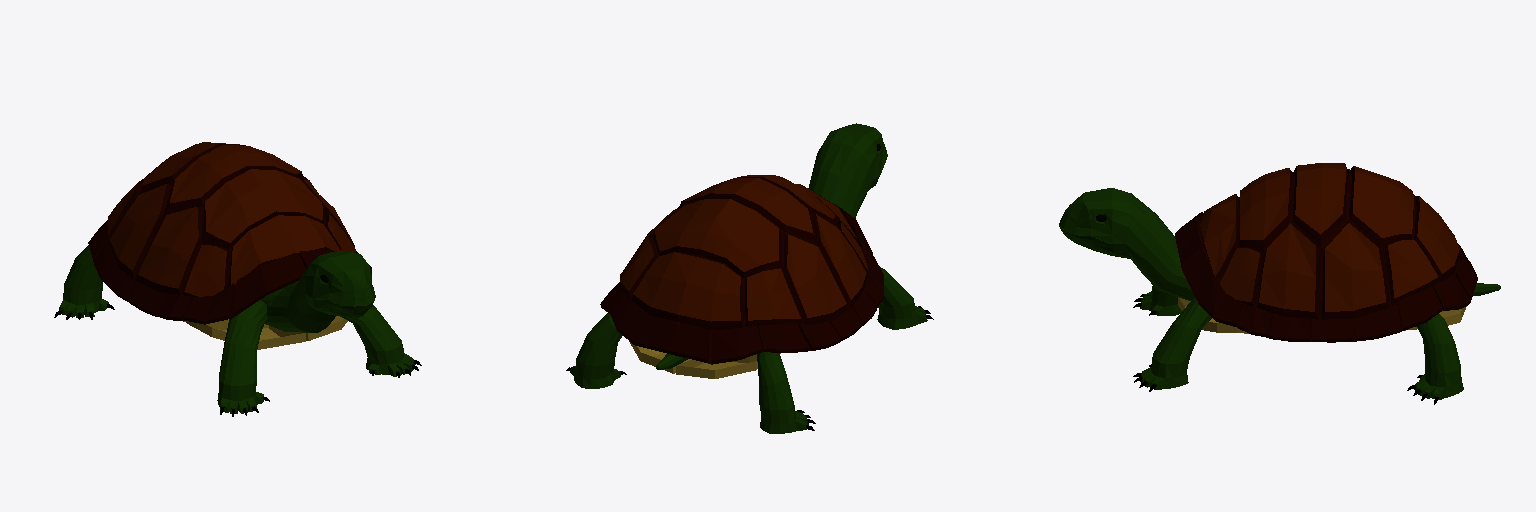
Rendered from turtle.obj.
3 views of the same model, side by side, from view 1: azimuth 30°, elevation 25°; view 2: azimuth 150°, elevation 25°; view 3: azimuth 270°, elevation 25° (orthographic).
Bounding box in the file's own units: 14.02 × 9.54 × 21.62.